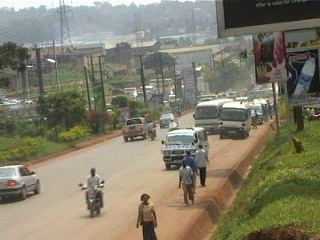Car: (0, 162, 42, 203), (120, 115, 158, 143), (158, 111, 179, 128)
Motorcycle: (77, 179, 105, 217), (148, 130, 158, 141)
